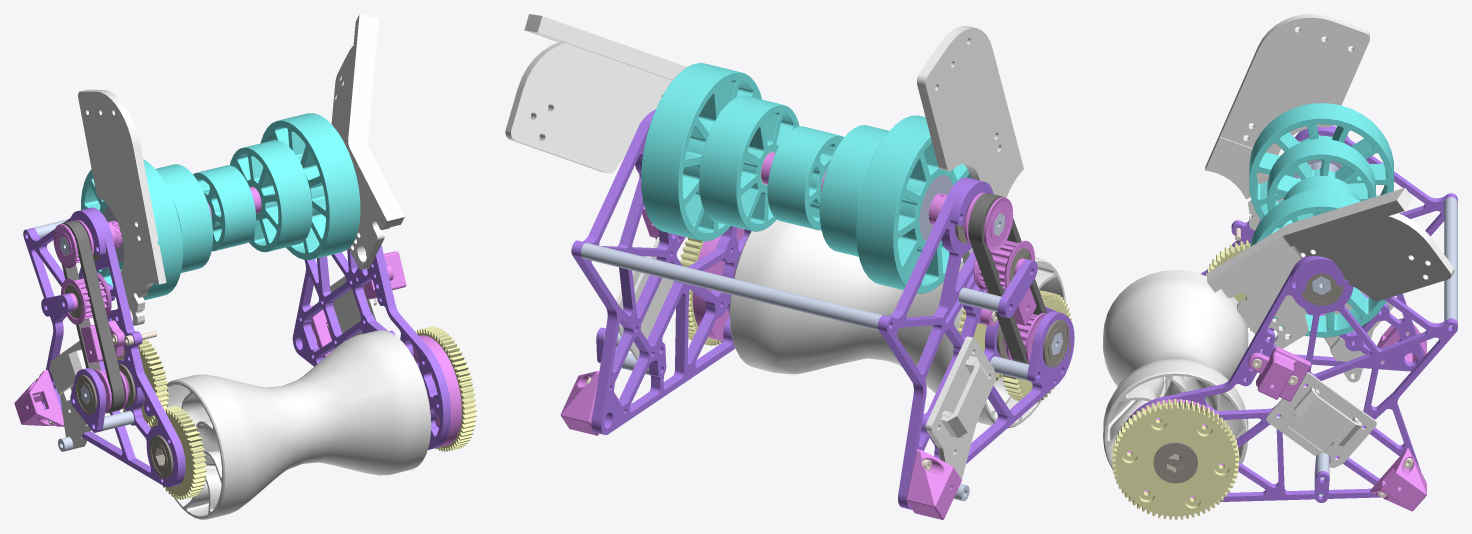
3 views of the same model, side by side, from view 1: azimuth 30°, elevation 25°; view 2: azimuth 150°, elevation 25°; view 3: azimuth 270°, elevation 25° (orthographic). The views are drawn at different scales.
Parts seen in each view (by area): view 1: NAUO65, NAUO71, NAUO3, NAUO2, NAUO70, NAUO37, NAUO35, NAUO29, NAUO33, NAUO6, NAUO31, NAUO23 (+17 smaller); view 2: NAUO65, NAUO2, NAUO70, NAUO3, NAUO29, NAUO71, NAUO37, NAUO35, NAUO33, NAUO55, NAUO31, NAUO66 (+17 smaller); view 3: NAUO65, NAUO70, NAUO71, NAUO2, NAUO62, NAUO29, NAUO3, NAUO31, NAUO37, NAUO74, NAUO18, NAUO20 (+10 smaller).
Boxes of the visible parts, x1,y1,x2,y2 form: NAUO65: (166, 330, 431, 519); NAUO71: (78, 89, 166, 325); NAUO3: (23, 207, 185, 487); NAUO2: (292, 245, 450, 449); NAUO70: (331, 14, 404, 269); NAUO37: (260, 113, 360, 259); NAUO35: (230, 140, 312, 252); NAUO29: (81, 159, 182, 300); NAUO33: (193, 165, 255, 251); NAUO6: (61, 220, 124, 413); NAUO31: (155, 164, 213, 272); NAUO23: (149, 406, 206, 499); NAUO65: (729, 219, 1065, 428); NAUO2: (571, 109, 750, 435); NAUO70: (505, 14, 686, 173); NAUO3: (877, 177, 1074, 509); NAUO29: (856, 115, 970, 293); NAUO71: (917, 26, 1023, 263); NAUO37: (641, 63, 761, 241); NAUO35: (699, 95, 799, 231); NAUO33: (767, 126, 843, 230); NAUO55: (581, 242, 882, 330); NAUO31: (819, 125, 888, 256); NAUO66: (926, 337, 995, 483); NAUO65: (1103, 270, 1248, 470); NAUO70: (1207, 188, 1454, 348); NAUO71: (1205, 14, 1369, 230); NAUO2: (1123, 256, 1457, 501); NAUO62: (1112, 399, 1239, 519); NAUO29: (1249, 103, 1393, 219); NAUO3: (1200, 127, 1457, 371); NAUO31: (1267, 139, 1375, 211); NAUO37: (1250, 191, 1386, 337); NAUO74: (1266, 372, 1376, 467); NAUO18: (1248, 346, 1310, 401); NAUO20: (1370, 448, 1426, 511).
Bounding box in the file's own units: 0.2993 × 0.2931 × 0.2481.
